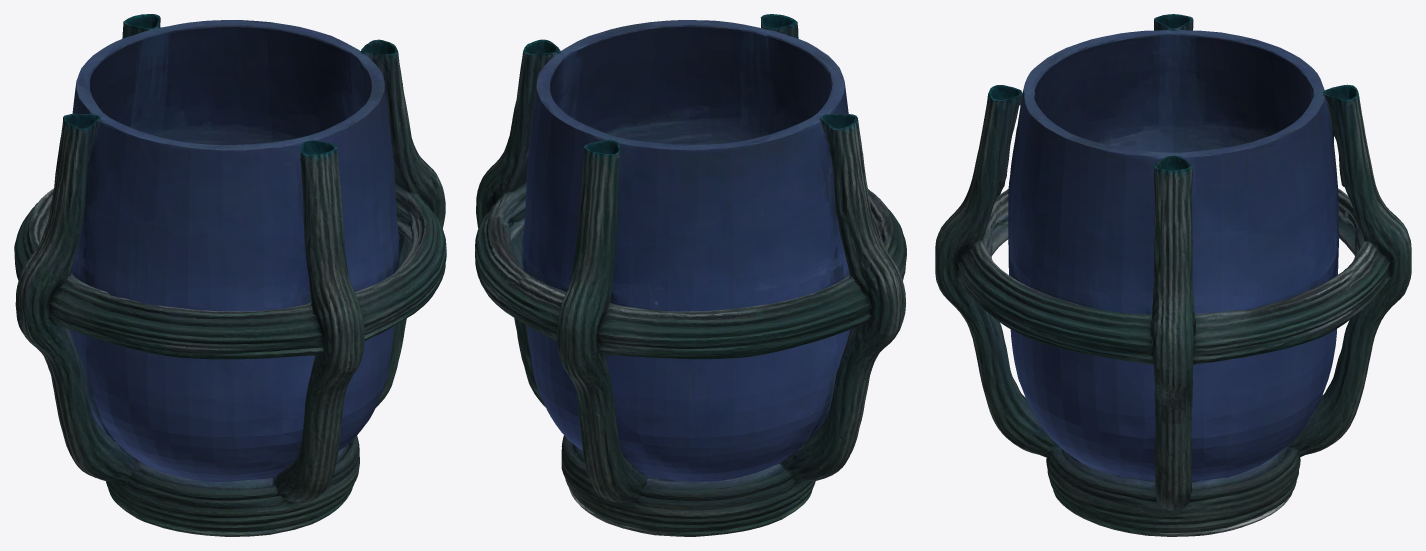
3 views of the same model, side by side, from view 1: azimuth 30°, elevation 25°; view 2: azimuth 150°, elevation 25°; view 3: azimuth 270°, elevation 25° (orthographic).
Visible parts, largest first — view 1: world; view 2: world; view 3: world.
Boxes of the visible parts, box(x1,y1,x2,y2) form: world: box(14, 14, 446, 536); world: box(475, 14, 906, 536); world: box(935, 14, 1411, 536).
Bounding box in the file's own units: 1 × 0.9189 × 1.
Materials: 1 (1 with a texture image).
